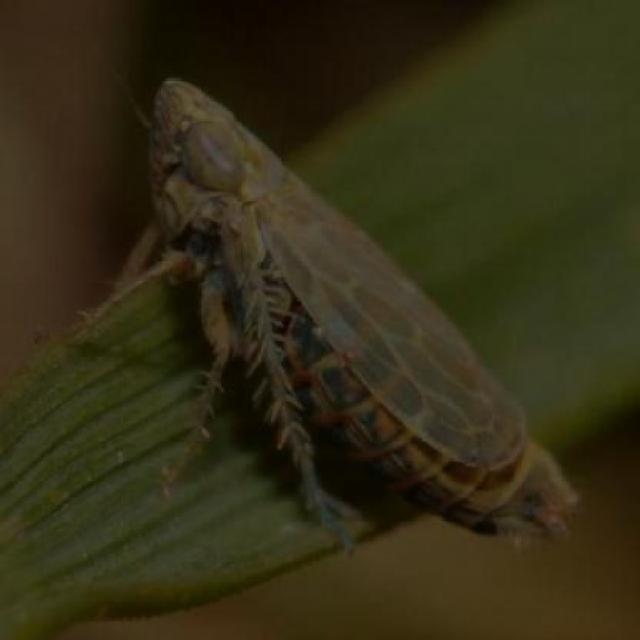green-leafhopper: (123, 74, 565, 549)
